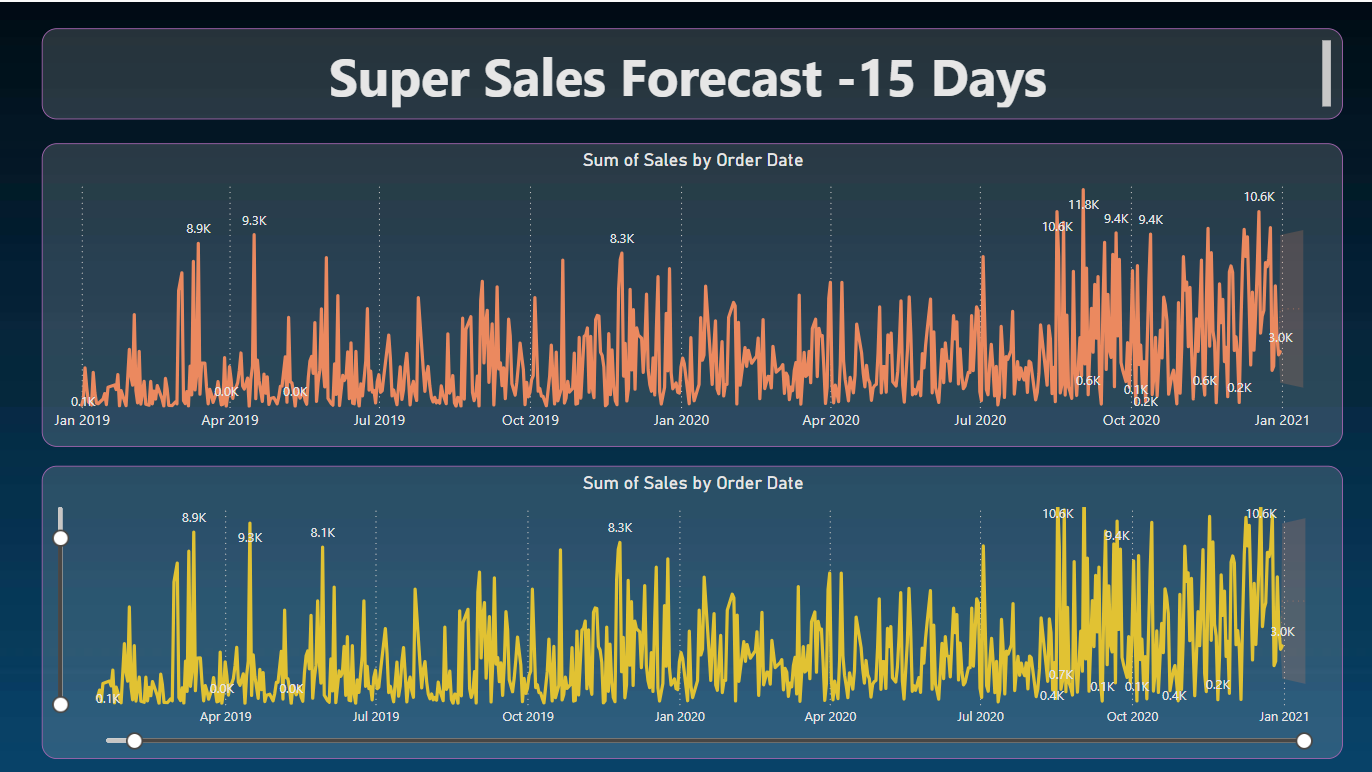

The page's visual inventory and layout, read from the dashboard file:
{"tool":"powerbi","page":{"name":"Page 2","canvas":[1280,720],"ordinal":1},"visuals":[{"type":"lineChart","fields":{"Y":["Sum(SuperStore_Sales_Dataset.Sales)"],"Category":["SuperStore_Sales_Dataset.Order Date"]},"box":[41.2,131.7,1210.3,282.7],"z":0},{"type":"lineChart","fields":{"Y":["Sum(SuperStore_Sales_Dataset.Sales)"],"Category":["SuperStore_Sales_Dataset.Order Date"]},"box":[41.2,430.9,1210.3,273.1],"z":1000},{"type":"textbox","box":[41.2,24.7,1210.3,85.1],"z":2000}]}

Visuals, with their boxes in screenshot pixels (x1, y1, x2, y2), scaled from the page's 1280x720 canvas onto the 1372x772 screenshot:
lineChart - Sum(SuperStore_Sales_Dataset.Sales) x SuperStore_Sales_Dataset.Order Date: 44,141,1341,444
lineChart - Sum(SuperStore_Sales_Dataset.Sales) x SuperStore_Sales_Dataset.Order Date: 44,462,1341,755
textbox: 44,26,1341,118
